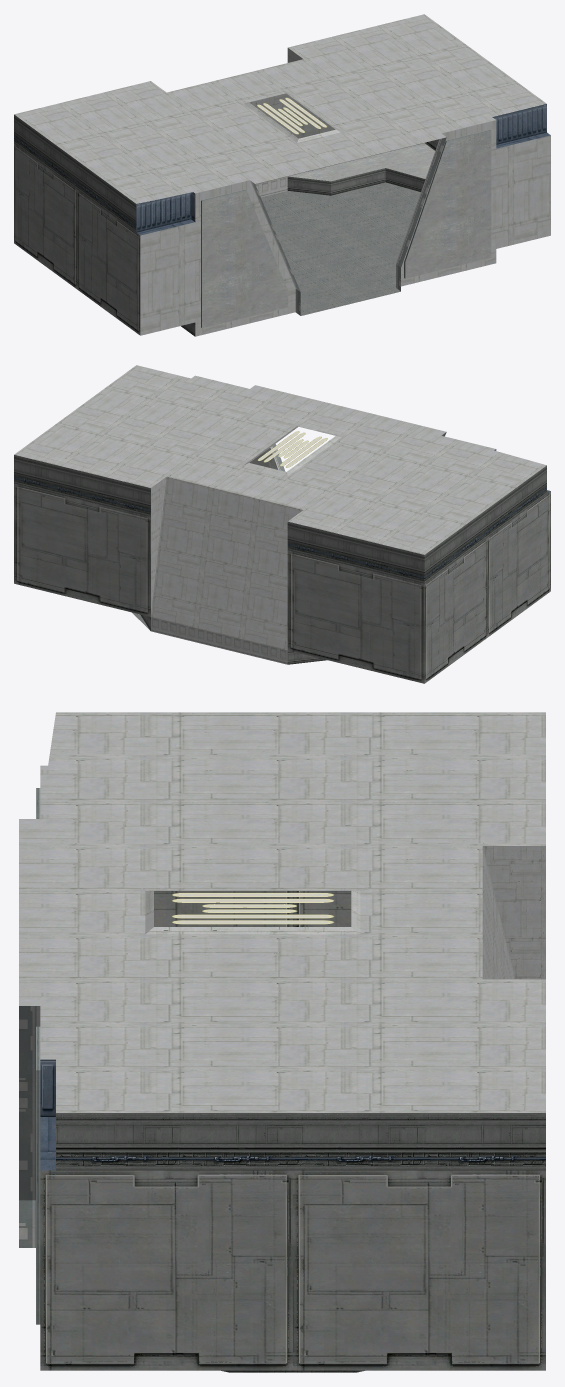
File: mun_all_military_base_police_station_impl_s01_r8_jailcell2_mesh_r8.fbx
3 renders of one model, top to bottom at view 1: azimuth 30°, elevation 25°; view 2: azimuth 150°, elevation 25°; view 3: azimuth 270°, elevation 25°, orthographic. The views are drawn at different scales.
Parts seen in each view (by area): view 1: mesh_node; view 2: mesh_node; view 3: mesh_node.
Boxes of the visible parts, box(x1,y1,x2,y2) form: mesh_node: box(14, 14, 550, 336); mesh_node: box(14, 365, 550, 683); mesh_node: box(19, 712, 545, 1372).
Bounding box in the file's own units: 15 × 5.06 × 8.33.
